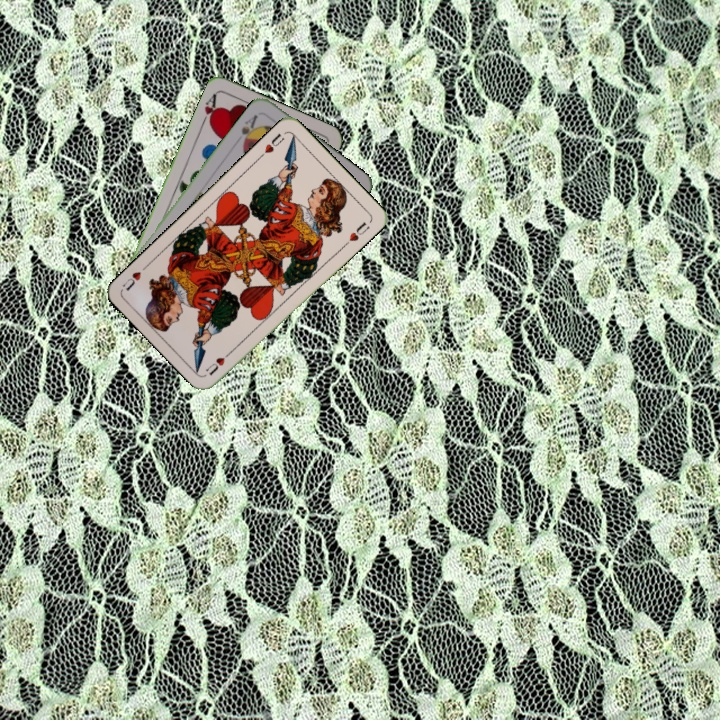HA: (197, 90, 221, 128)
HU: (201, 346, 235, 378), (255, 129, 287, 161)
SA: (237, 110, 261, 147)
